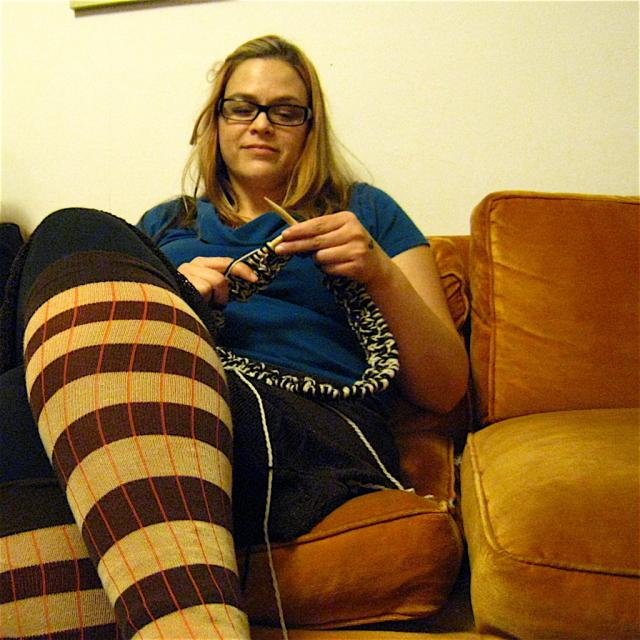Glasses: (216, 91, 330, 133)
